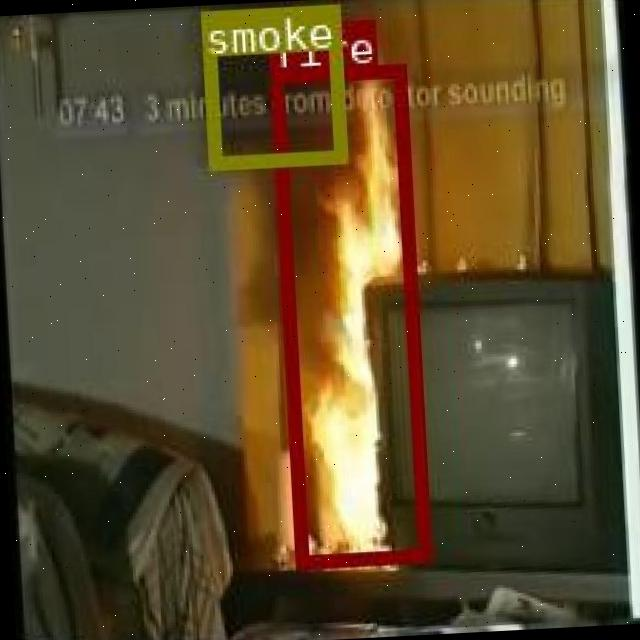fire: (269, 62, 429, 566)
smoke: (198, 3, 342, 167)
